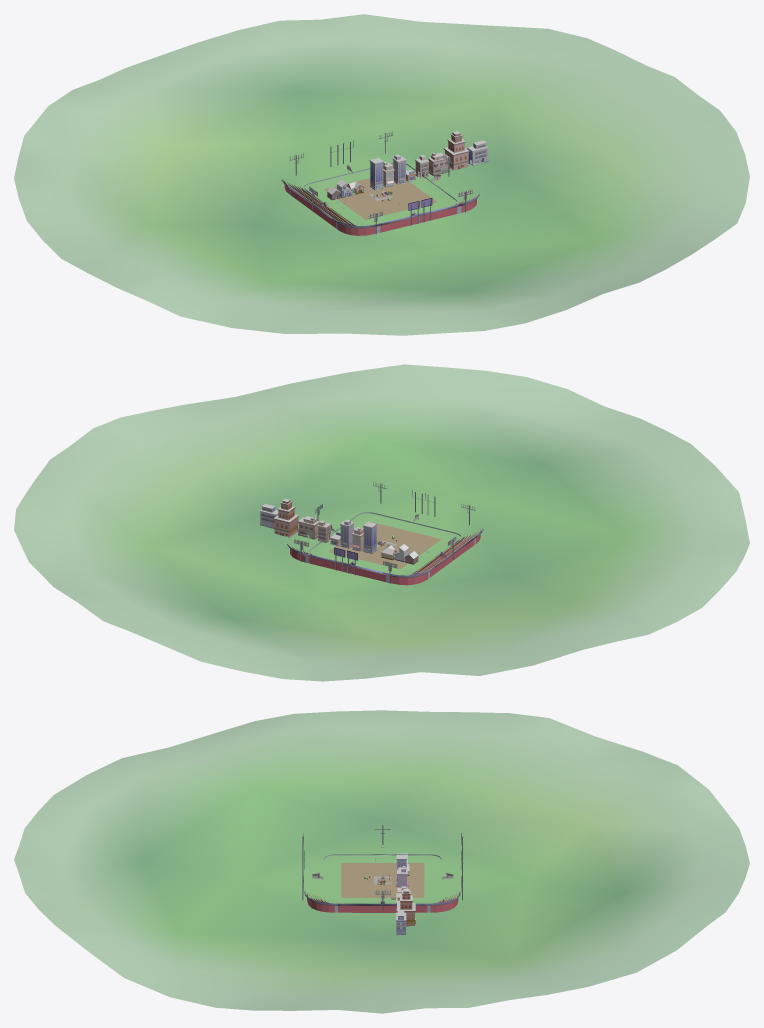
The model's file is snow_models.glb.
The picture shows the model from 3 angles, top to bottom: view 1: azimuth 30°, elevation 25°; view 2: azimuth 150°, elevation 25°; view 3: azimuth 270°, elevation 25°; orthographic projection.
Visible parts, largest first — view 1: back_low, Gradas_00, dirt, build_g; view 2: back_low, Gradas_00, dirt, build_g; view 3: back_low, dirt, Gradas_00.
Boxes of the visible parts, x1,y1,x2,y2 form: back_low: (14, 14, 749, 335); Gradas_00: (281, 132, 479, 235); dirt: (324, 178, 437, 219); build_g: (443, 131, 469, 170); back_low: (14, 364, 749, 681); Gradas_00: (287, 482, 483, 585); dirt: (329, 521, 441, 569); build_g: (273, 498, 299, 537); back_low: (14, 710, 749, 1013); dirt: (341, 863, 424, 897); Gradas_00: (302, 825, 463, 912).
Bounding box in the file's own units: 1324 × 66.96 × 1329.
